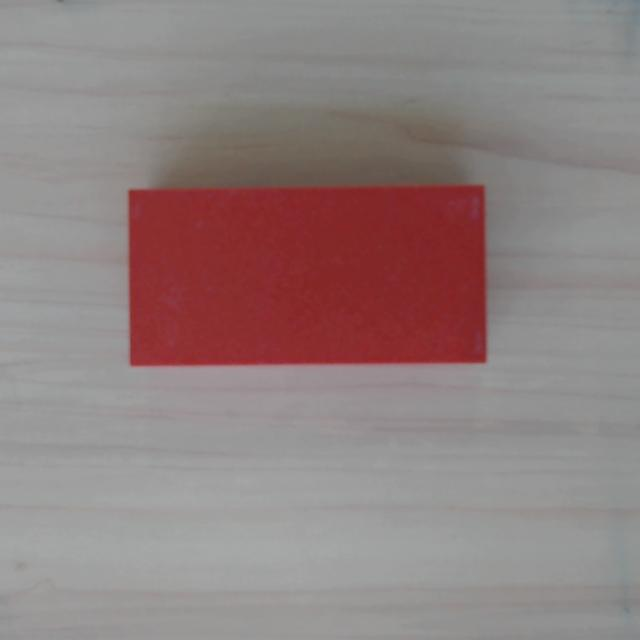Balok-Merah-1005025: (129, 186, 486, 366)
